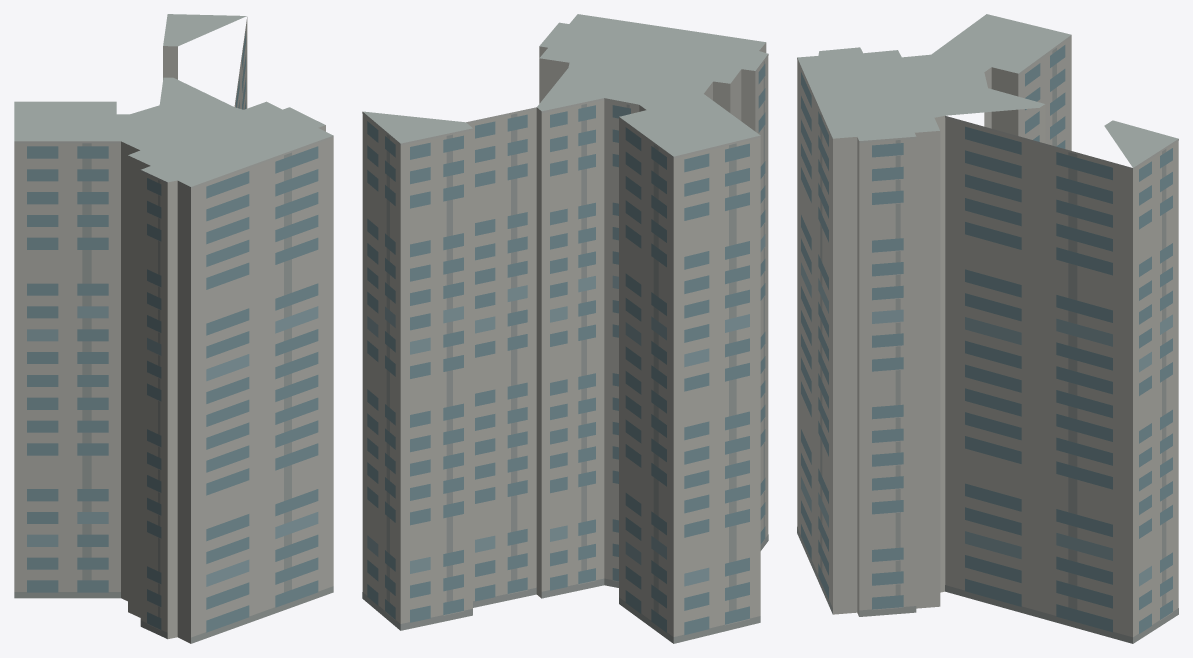
File: residential-5b68b122-6506-4cac-a4ad-45334134efcd.glb
3 views of the same model, side by side, from view 1: azimuth 30°, elevation 25°; view 2: azimuth 150°, elevation 25°; view 3: azimuth 270°, elevation 25° (orthographic). The views are drawn at different scales.
Visible parts, largest first — view 1: residential-5b68b122-6506-4cac-a4ad-45334134efcd.tmp; view 2: residential-5b68b122-6506-4cac-a4ad-45334134efcd.tmp; view 3: residential-5b68b122-6506-4cac-a4ad-45334134efcd.tmp.
Boxes of the visible parts, x1=… form: residential-5b68b122-6506-4cac-a4ad-45334134efcd.tmp: x1=14, y1=14, x2=333, y2=643; residential-5b68b122-6506-4cac-a4ad-45334134efcd.tmp: x1=362, y1=14, x2=768, y2=643; residential-5b68b122-6506-4cac-a4ad-45334134efcd.tmp: x1=797, y1=14, x2=1178, y2=643.
Bounding box in the file's own units: 40.27 × 58 × 42.16.
